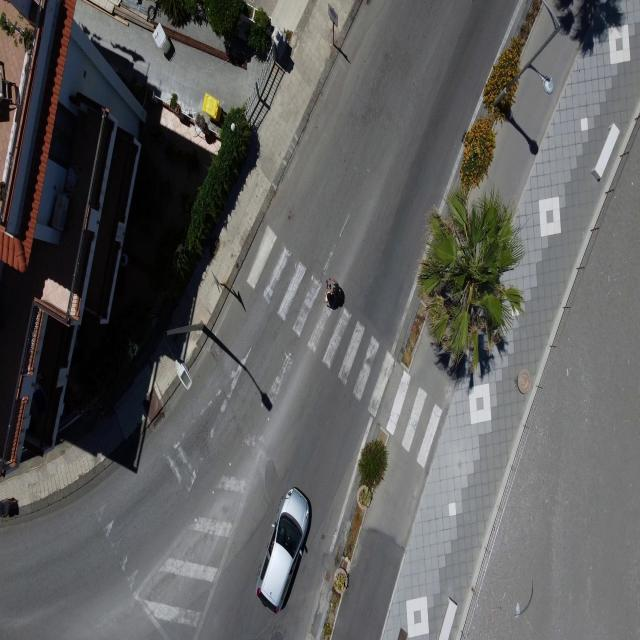Car: (244, 477, 323, 617)
